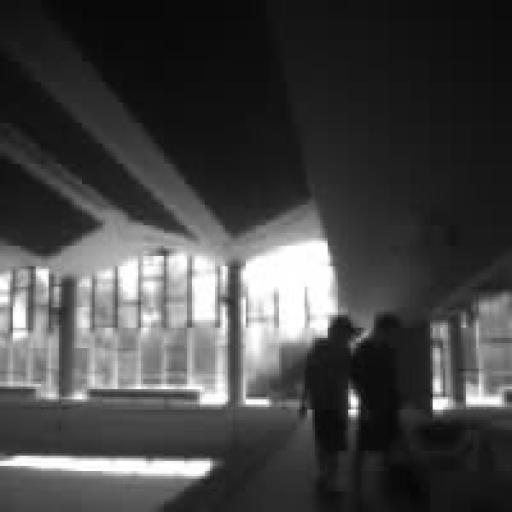human: (300, 315, 360, 494), (351, 313, 401, 501)
